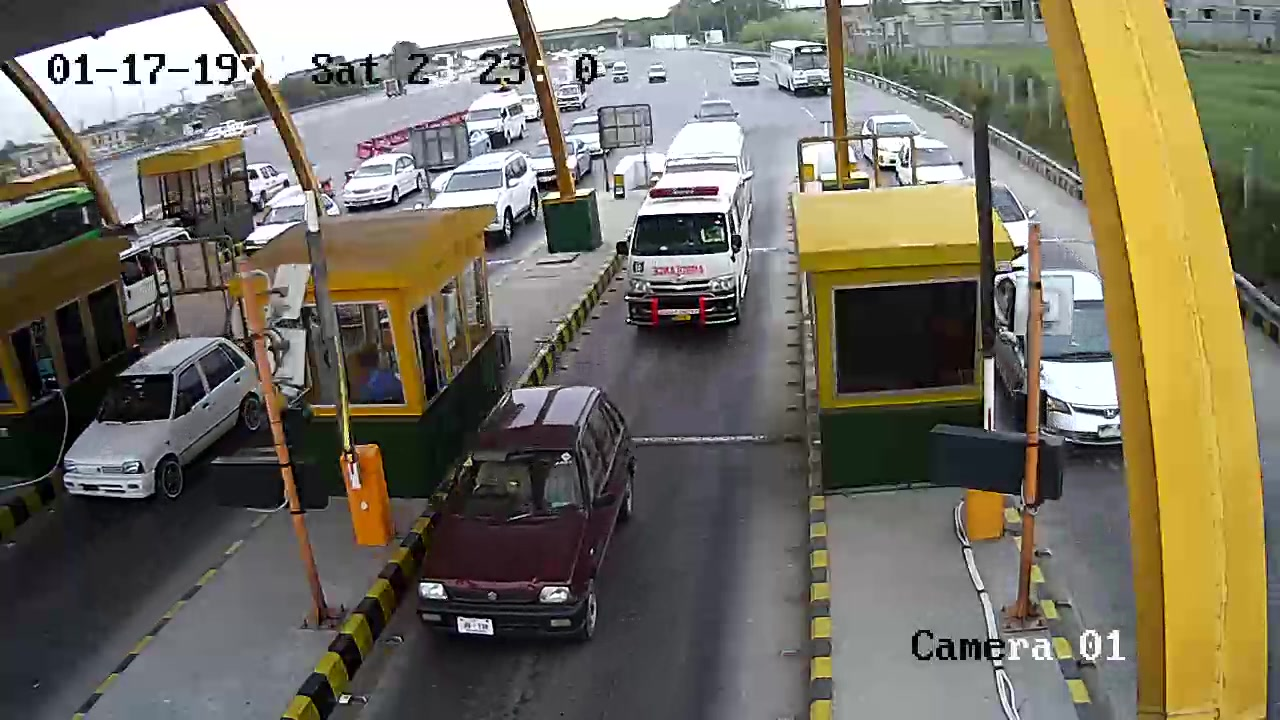F1: (415, 380, 643, 649)
